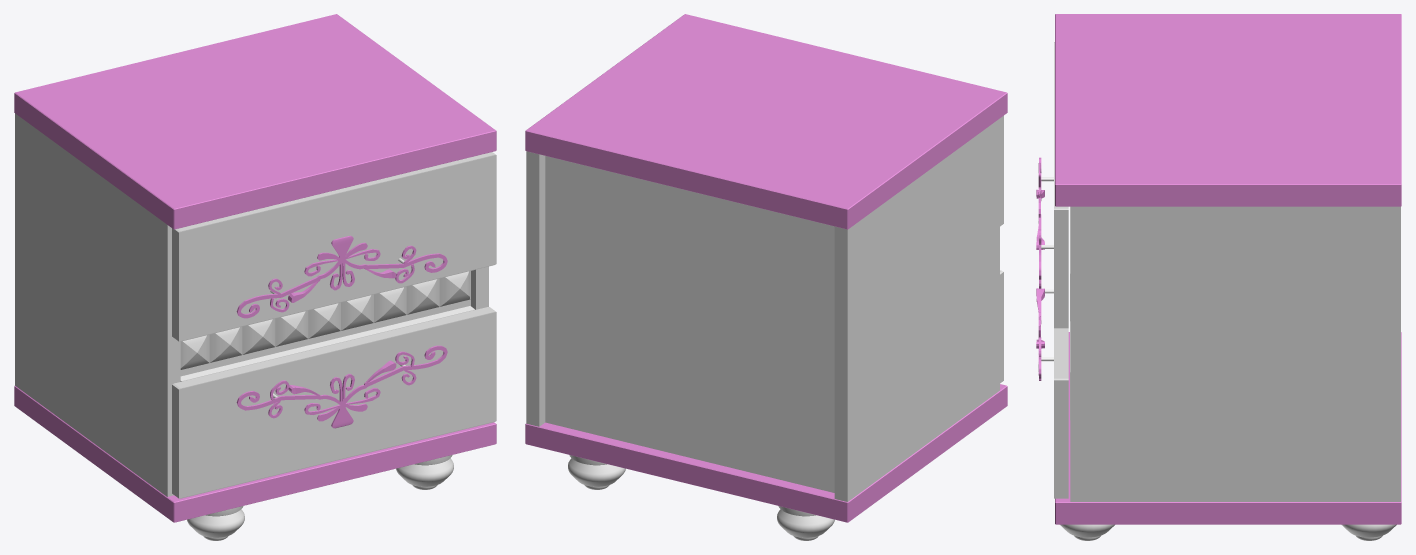
3 renders of one model, left to right at view 1: azimuth 30°, elevation 25°; view 2: azimuth 150°, elevation 25°; view 3: azimuth 270°, elevation 25°, orthographic. The views are drawn at different scales.
Parts seen in each view (by area): view 1: top_bottom_8, drawer_3, side_9, pattern_6, drawer_handle_2, feet_4, front_caution_5, behind_pattern_0; view 2: rear_7, top_bottom_8, side_9, feet_4, drawer_3; view 3: side_9, top_bottom_8, drawer_3, feet_4, drawer_handle_2.
Part boxes in pixels (<box>): top_bottom_8: <box>14,14,496,522</box>; drawer_3: <box>172,152,496,498</box>; side_9: <box>15,113,488,496</box>; pattern_6: <box>180,271,470,369</box>; drawer_handle_2: <box>236,235,447,428</box>; feet_4: <box>187,455,453,540</box>; front_caution_5: <box>180,271,470,376</box>; behind_pattern_0: <box>180,306,475,381</box>; rear_7: <box>545,156,834,492</box>; top_bottom_8: <box>525,14,1007,522</box>; side_9: <box>526,118,999,501</box>; feet_4: <box>568,455,834,540</box>; drawer_3: <box>1000,115,1003,383</box>; side_9: <box>1070,206,1400,501</box>; top_bottom_8: <box>1055,14,1401,524</box>; drawer_3: <box>1054,42,1068,498</box>; feet_4: <box>1060,524,1396,540</box>; drawer_handle_2: <box>1036,157,1044,380</box>.
Bounding box in the file's own units: 0.49 × 0.5106 × 0.4428.
